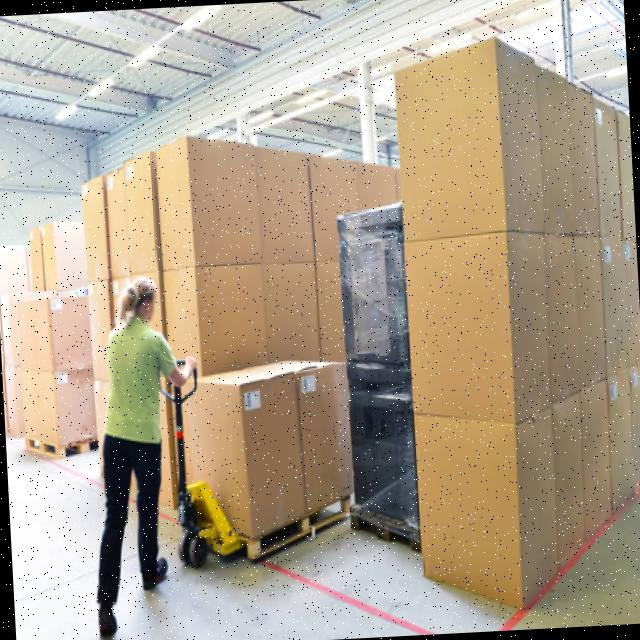Wooden-Pallets: (246, 471, 360, 575), (22, 425, 102, 466)
